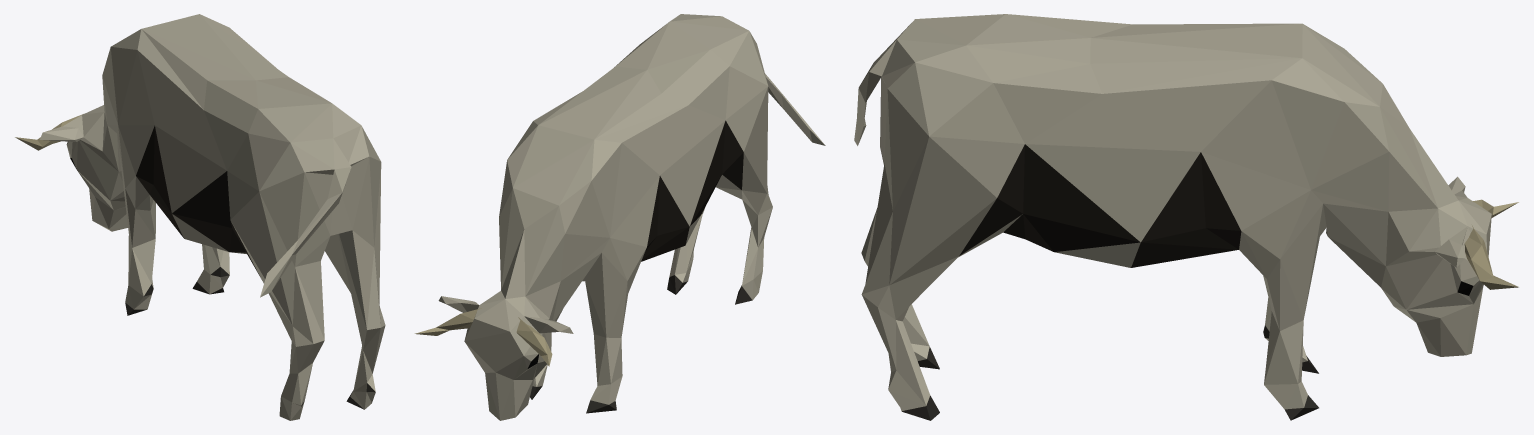
Rendered from cow-grazing.glb.
The picture shows the model from 3 angles, left to right: view 1: azimuth 30°, elevation 25°; view 2: azimuth 150°, elevation 25°; view 3: azimuth 270°, elevation 25°; orthographic projection. The views are drawn at different scales.
Visible parts, largest first — view 1: cow-grazing; view 2: cow-grazing; view 3: cow-grazing.
Part boxes in pixels (bbox=[...]): cow-grazing: bbox=[15, 14, 385, 420]; cow-grazing: bbox=[414, 14, 825, 420]; cow-grazing: bbox=[854, 14, 1518, 420].
Size of the model in its own units: 4.6 by 7.99 by 13.21.
